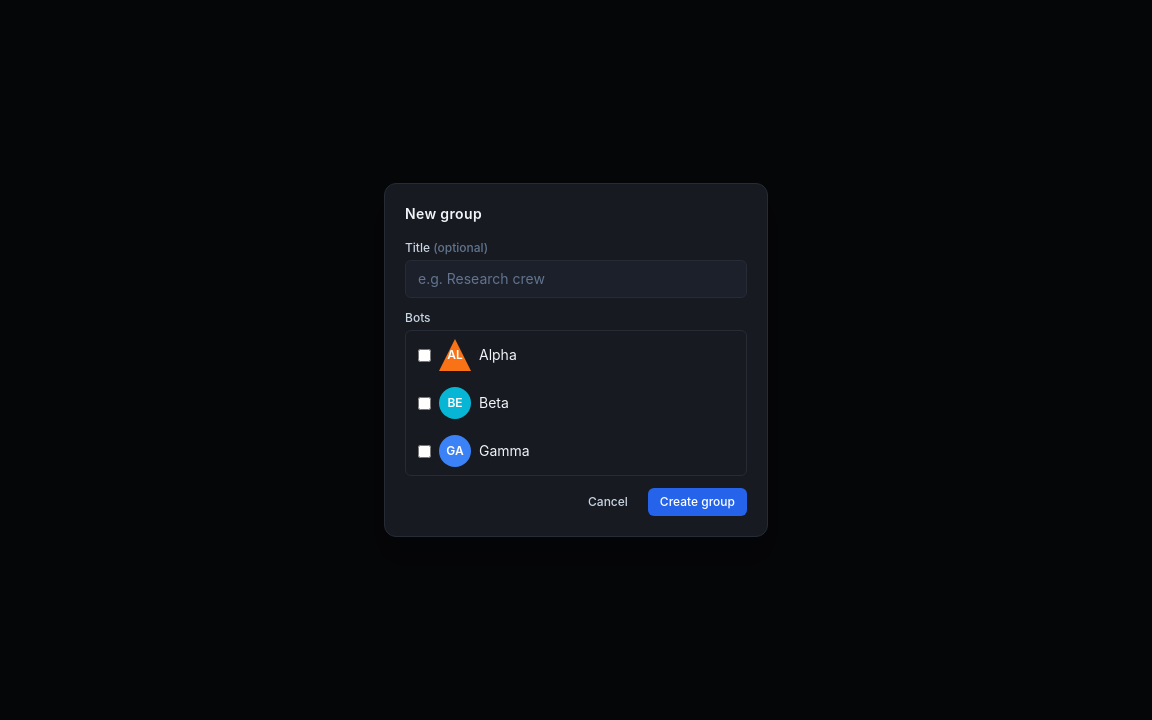
Test: GroupThreadDialog › shows a server error and does not reload when POST /threads/group fails
What coordinates should you click on to do the following:
click the option "AL Alpha"
I would click on:
 (455, 355)
Its box is [406,331,746,379].
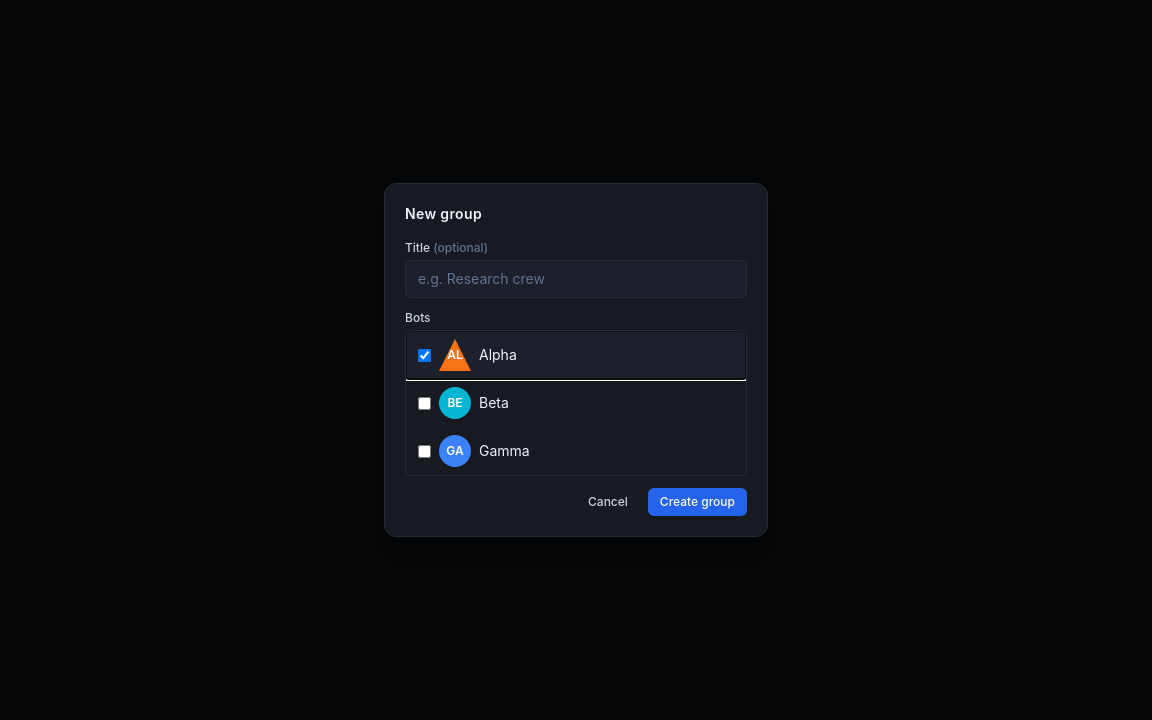
What coordinates should you click on to do the following:
click the option "BE Beta"
I would click on:
 (455, 403)
Its box is [406,379,746,427].
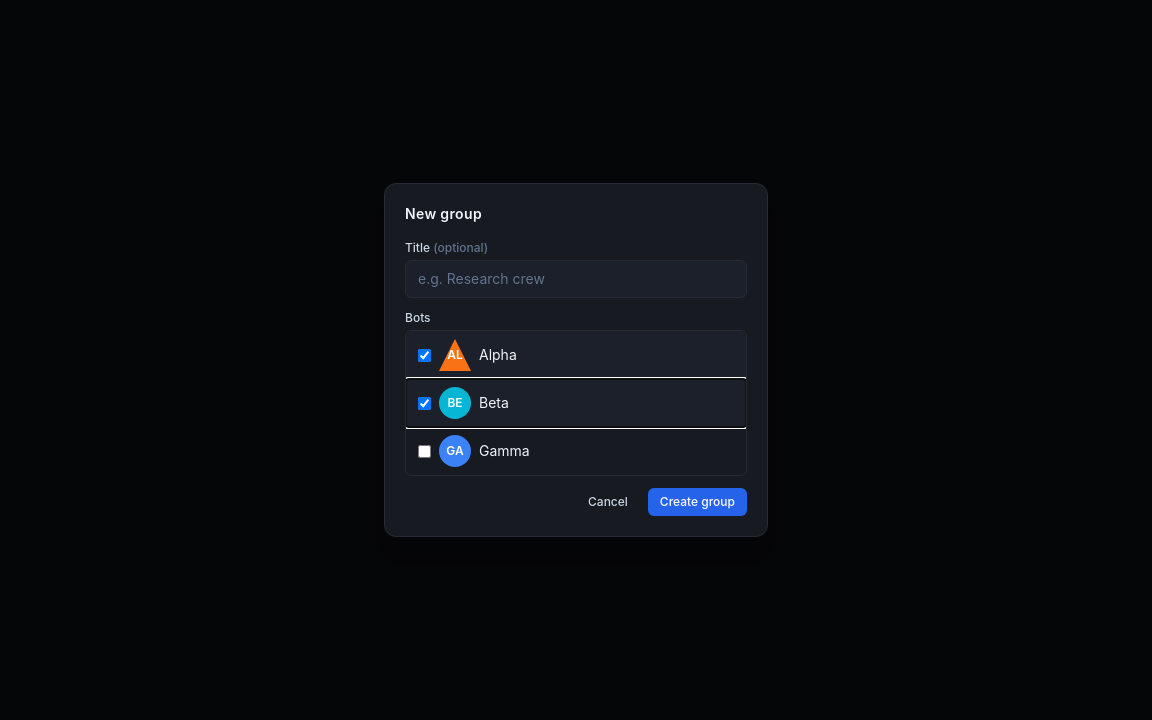
What coordinates should you click on to do the following:
click the button "Create group"
I would click on:
 (697, 502)
Its box is [648,488,747,516].
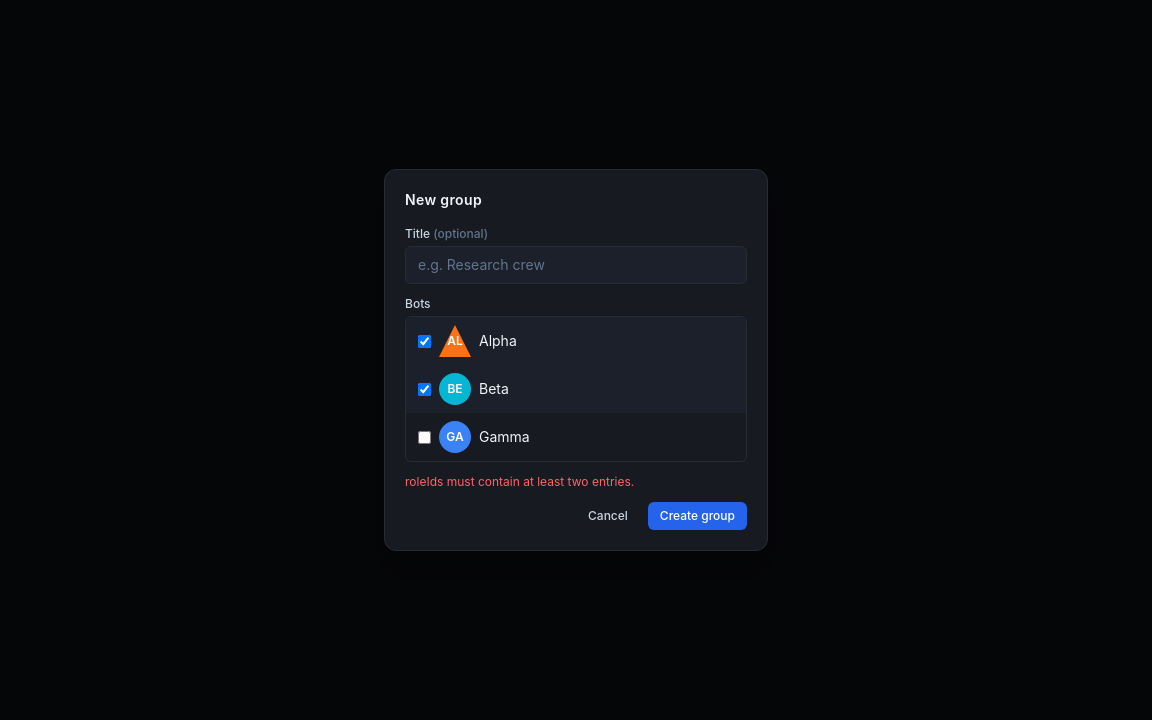
Expected: the message reads "roleIds must contain at least two entries.", [405,474,634,489]
